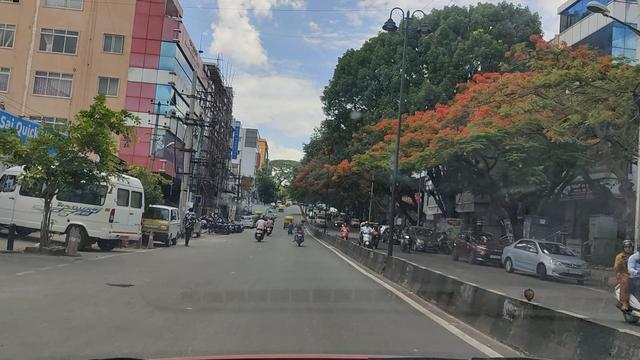RoadDamages: (91, 278, 142, 296)
